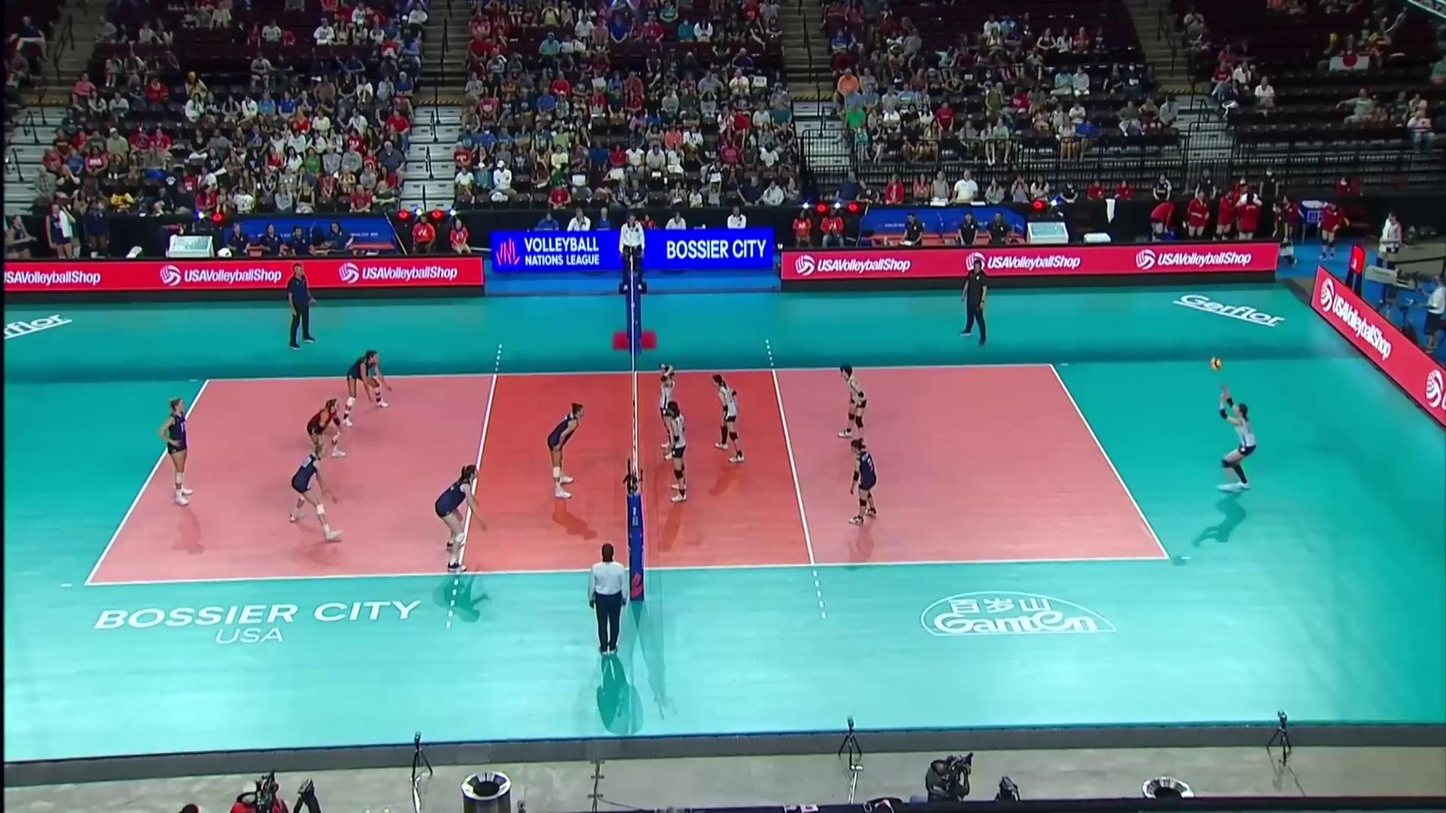player: (289, 441, 342, 546), (1212, 382, 1259, 493), (436, 458, 482, 571), (544, 403, 590, 500), (336, 352, 394, 415), (161, 395, 191, 507), (662, 402, 693, 507), (711, 374, 746, 464), (848, 437, 880, 525), (305, 397, 349, 461), (838, 363, 870, 443), (660, 366, 684, 458)
refree: (588, 544, 628, 658), (617, 214, 647, 290)
